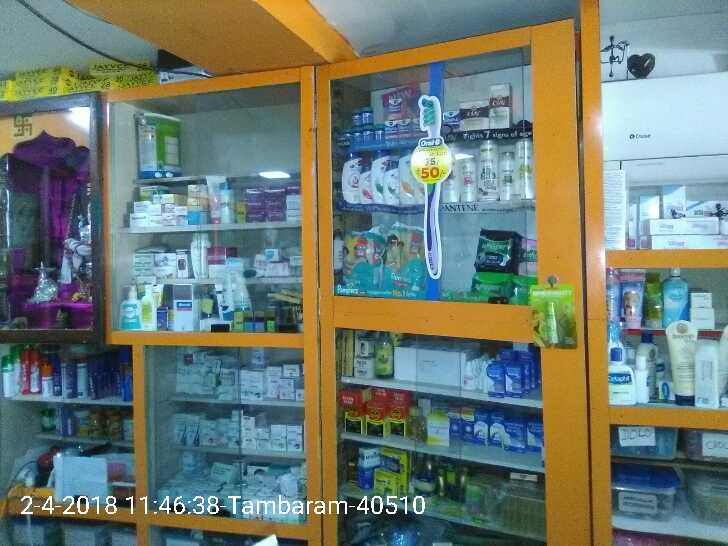vicks: (341, 95, 427, 140)
